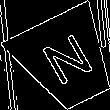N_SE: (35, 29, 98, 92)
